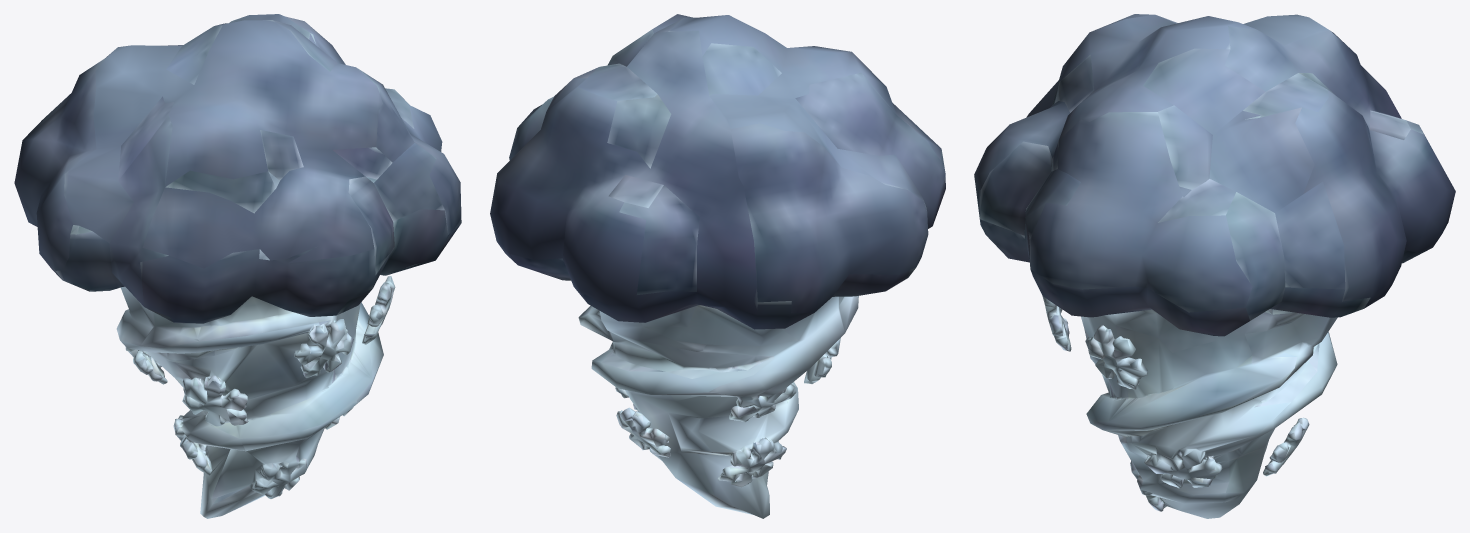
The model's file is blizzard-cloud.glb.
The picture shows the model from 3 angles, left to right: view 1: azimuth 30°, elevation 25°; view 2: azimuth 150°, elevation 25°; view 3: azimuth 270°, elevation 25°; orthographic projection. The views are drawn at different scales.
Visible parts, largest first — view 1: Mesh_0; view 2: Mesh_0; view 3: Mesh_0.
Boxes of the visible parts, x1=… form: Mesh_0: x1=14, y1=14, x2=461, y2=518; Mesh_0: x1=490, y1=14, x2=945, y2=518; Mesh_0: x1=974, y1=14, x2=1455, y2=518.
Bounding box in the file's own units: 1.59 × 1.89 × 1.62.
1 material, 1 textured.
